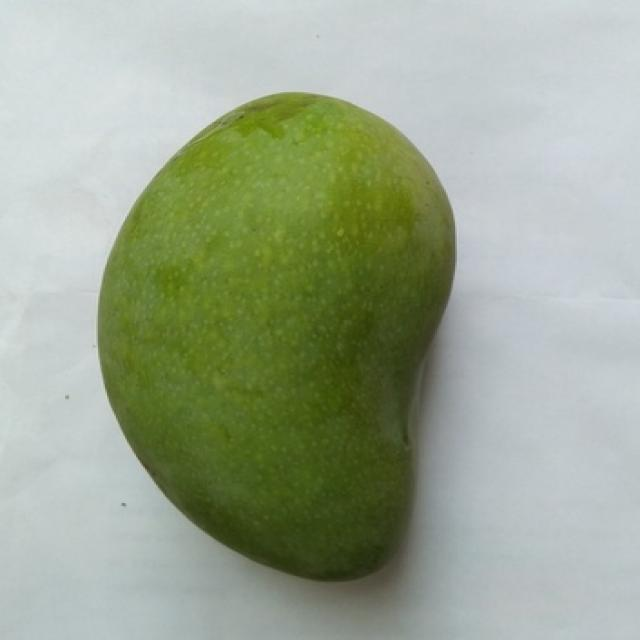Mango: (98, 94, 453, 579)
